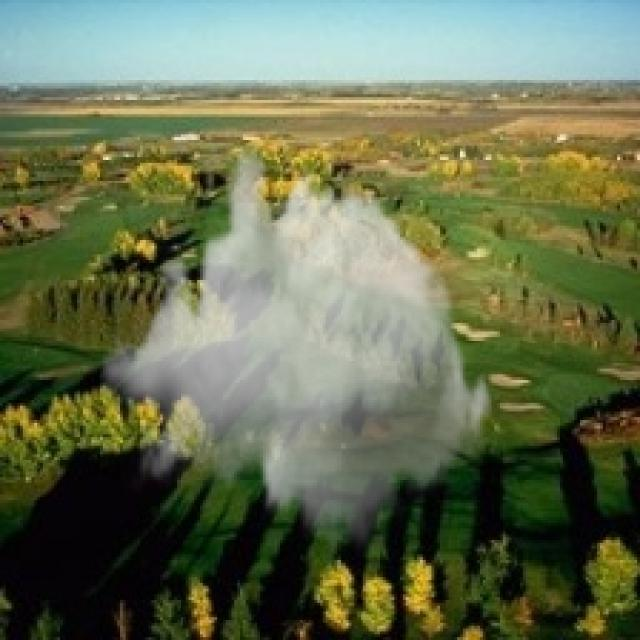smoke: (100, 140, 497, 557)
